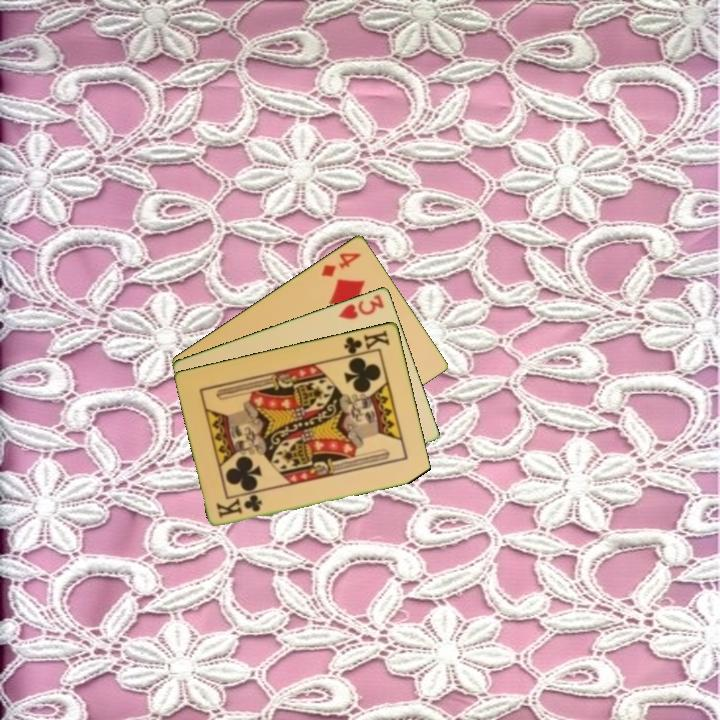3h: (335, 290, 387, 322)
4d: (318, 249, 364, 280)
Kc: (340, 326, 393, 359), (213, 491, 265, 521)
